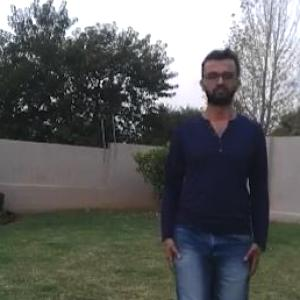follow: (168, 57, 262, 299)
